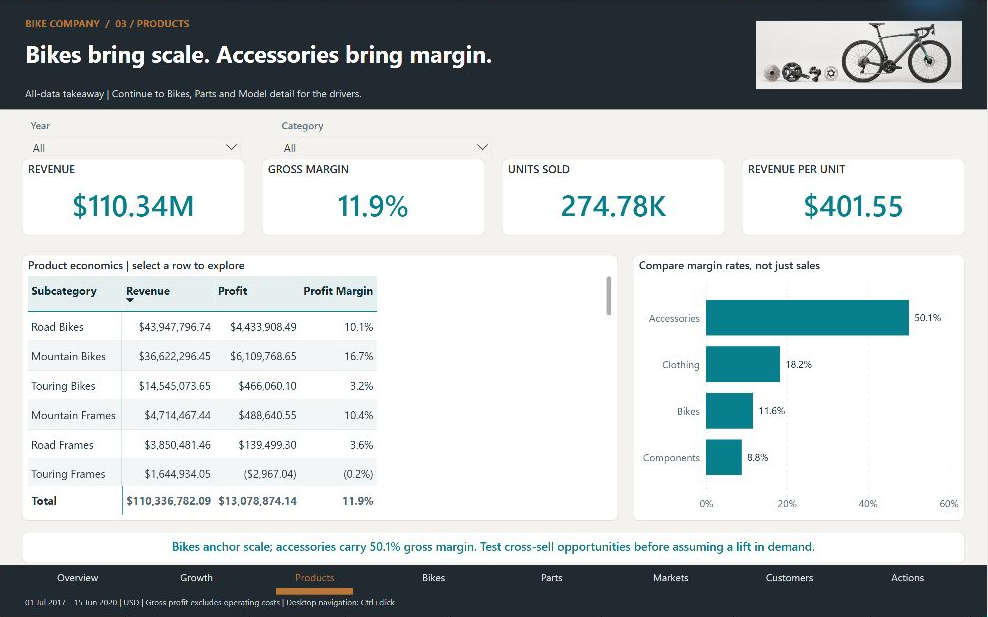

This screenshot's page, from the dashboard's own definition file:
{"tool":"powerbi","page":{"name":"03 Products","canvas":[1440,900],"ordinal":3},"visuals":[{"type":"actionButton","box":[32,827,163,30]},{"type":"actionButton","box":[205,827,163,30]},{"type":"actionButton","box":[378,827,163,30]},{"type":"actionButton","box":[551,827,163,30]},{"type":"actionButton","box":[724,827,163,30]},{"type":"actionButton","box":[897,827,163,30]},{"type":"actionButton","box":[1070,827,163,30]},{"type":"actionButton","box":[1243,827,163,30]},{"type":"textbox","box":[576,857,113,3]},{"type":"textbox","box":[0,0,1440,160],"z":1},{"type":"textbox","box":[0,824,1440,76],"z":1},{"type":"image","box":[1098,14,310,132],"z":2},{"type":"textbox","box":[32,18,850,34],"z":28000},{"type":"textbox","box":[32,51,1040,64],"z":29000},{"type":"textbox","box":[32,119,1040,40],"z":30000},{"type":"textbox","box":[32,861,1376,39],"z":31000},{"type":"slicer","fields":{"Values":["Order Date.Year"]},"box":[32,168,330,60],"z":33000},{"type":"slicer","fields":{"Values":["Product.Category"]},"box":[398,168,330,60],"z":34000},{"type":"card","title":"REVENUE","fields":{"Values":["Measure.Revenue"]},"box":[32,232,326,112],"z":35000},{"type":"card","title":"GROSS MARGIN","fields":{"Values":["Measure.Profit Margin"]},"box":[382,232,326,112],"z":36000},{"type":"card","title":"UNITS SOLD","fields":{"Values":["Measure.Units Sold"]},"box":[732,232,326,112],"z":37000},{"type":"card","title":"REVENUE PER UNIT","fields":{"Values":["Measure.Revenue per Unit"]},"box":[1082,232,326,112],"z":38000},{"type":"pivotTable","title":"Product economics | select a row to explore","fields":{"Rows":["Product.Subcategory"],"Values":["Measure.Revenue","Measure.Profit","Measure.Profit Margin"]},"box":[32,372,870,388],"z":39000},{"type":"clusteredBarChart","title":"Compare margin rates, not just sales","fields":{"Category":["Product.Category"],"Y":["Measure.Profit Margin"]},"box":[924,372,484,388],"z":40000},{"type":"card","fields":{"Values":["Measure.Product Insight"]},"box":[32,776,1376,46],"z":41000}]}

Visuals, with their boxes in screenshot pixels (x1, y1, x2, y2), scaled from the page's 1440x900 canvas onto the 988x617 screenshot:
actionButton: locate(22, 567, 134, 588)
actionButton: locate(141, 567, 252, 588)
actionButton: locate(259, 567, 371, 588)
actionButton: locate(378, 567, 490, 588)
actionButton: locate(497, 567, 609, 588)
actionButton: locate(615, 567, 727, 588)
actionButton: locate(734, 567, 846, 588)
actionButton: locate(853, 567, 965, 588)
textbox: locate(395, 588, 473, 590)
textbox: locate(0, 0, 987, 110)
textbox: locate(0, 565, 987, 616)
image: locate(753, 10, 966, 100)
textbox: locate(22, 12, 605, 36)
textbox: locate(22, 35, 736, 79)
textbox: locate(22, 82, 736, 109)
textbox: locate(22, 590, 966, 616)
slicer - Order Date.Year: locate(22, 115, 248, 156)
slicer - Product.Category: locate(273, 115, 499, 156)
"REVENUE" card: locate(22, 159, 246, 236)
"GROSS MARGIN" card: locate(262, 159, 486, 236)
"UNITS SOLD" card: locate(502, 159, 726, 236)
"REVENUE PER UNIT" card: locate(742, 159, 966, 236)
"Product economics | select a row to explore" pivotTable: locate(22, 255, 619, 521)
"Compare margin rates, not just sales" clusteredBarChart: locate(634, 255, 966, 521)
card - Measure.Product Insight: locate(22, 532, 966, 564)
